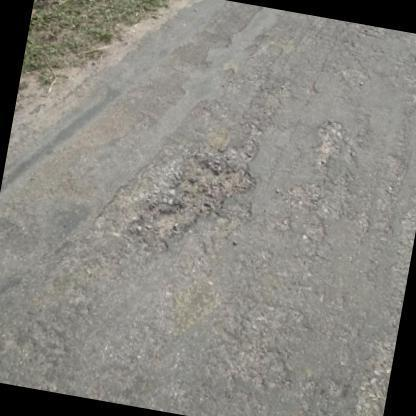pothole: (122, 131, 266, 258), (282, 182, 336, 242), (246, 340, 292, 392), (311, 120, 351, 169)
